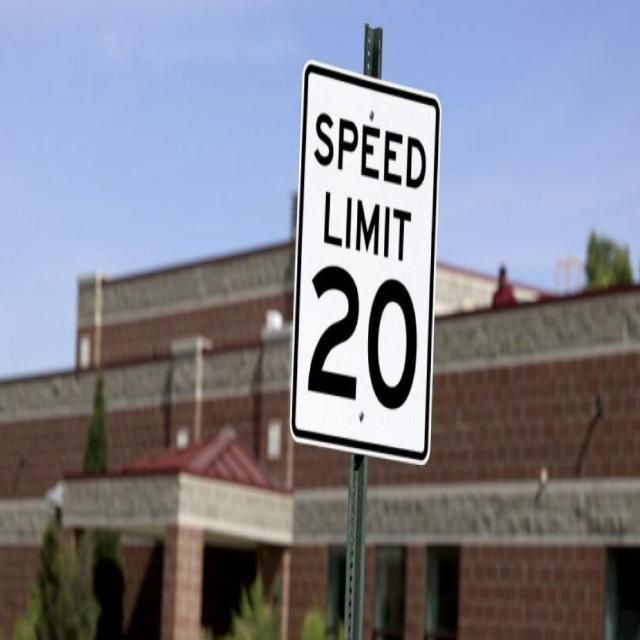speedLimit20: (296, 106, 428, 441)
